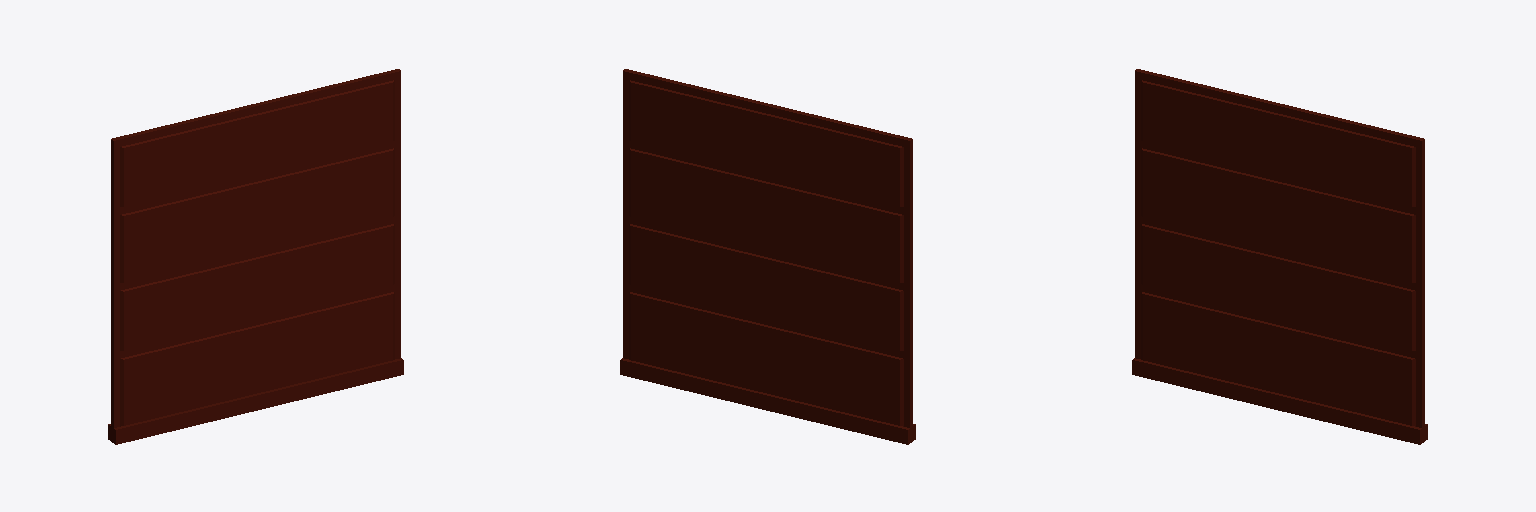
The model's file is 8x8_wall_door.obj.
3 renders of one model, left to right at view 1: azimuth 30°, elevation 25°; view 2: azimuth 150°, elevation 25°; view 3: azimuth 330°, elevation 25°, orthographic.
Visible parts, largest first — view 1: door; view 2: door; view 3: door.
Boxes of the visible parts, x1,y1,x2,y2 form: door: [108, 69, 403, 444]; door: [620, 69, 915, 444]; door: [1132, 69, 1427, 444].
Size of the model in its own units: 3.98 by 4 by 0.1843.